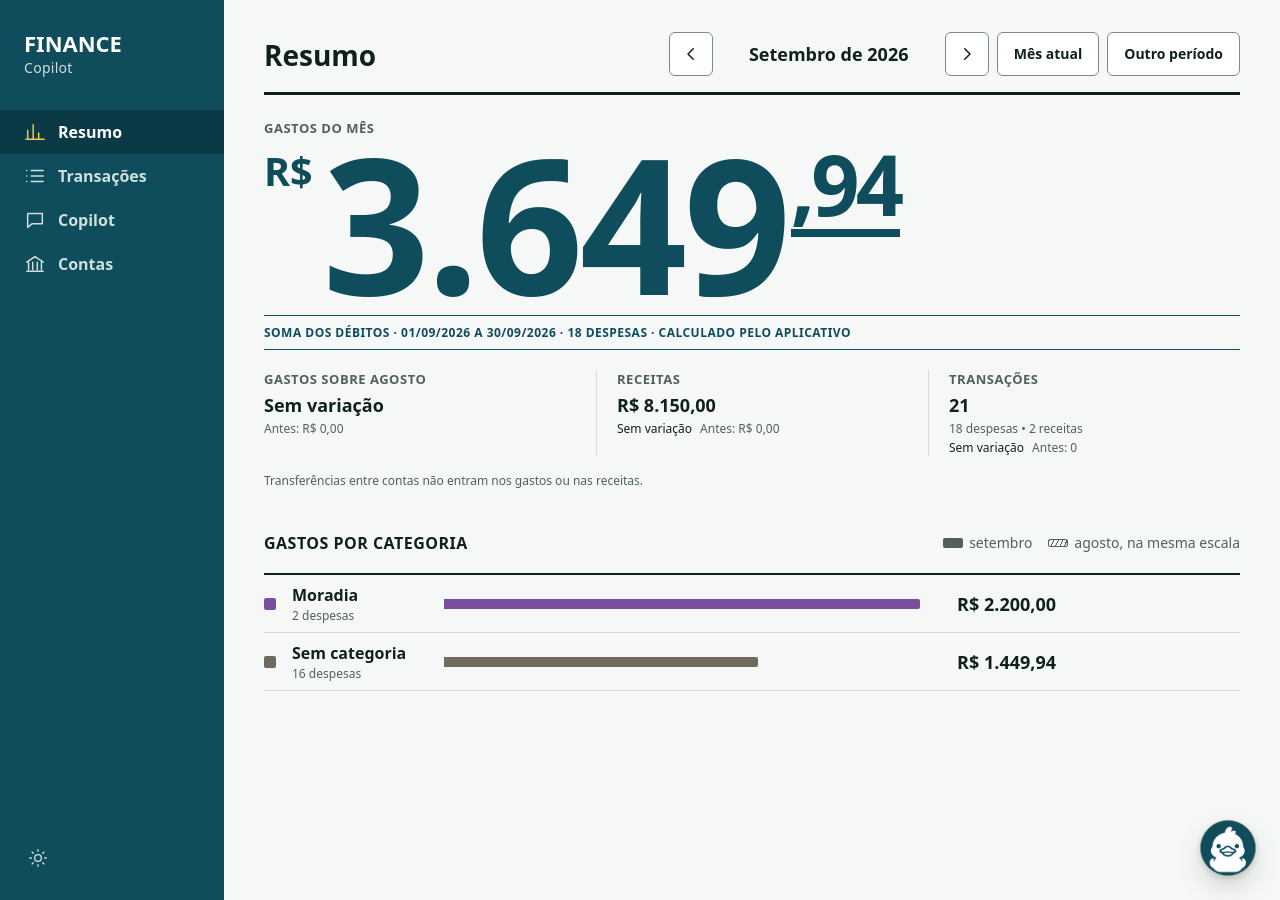
Test: DashboardPage › clears the old numbers while the new period is loading
Click the button "Mês atual".
click(1048, 54)  # box [997,32,1099,76]
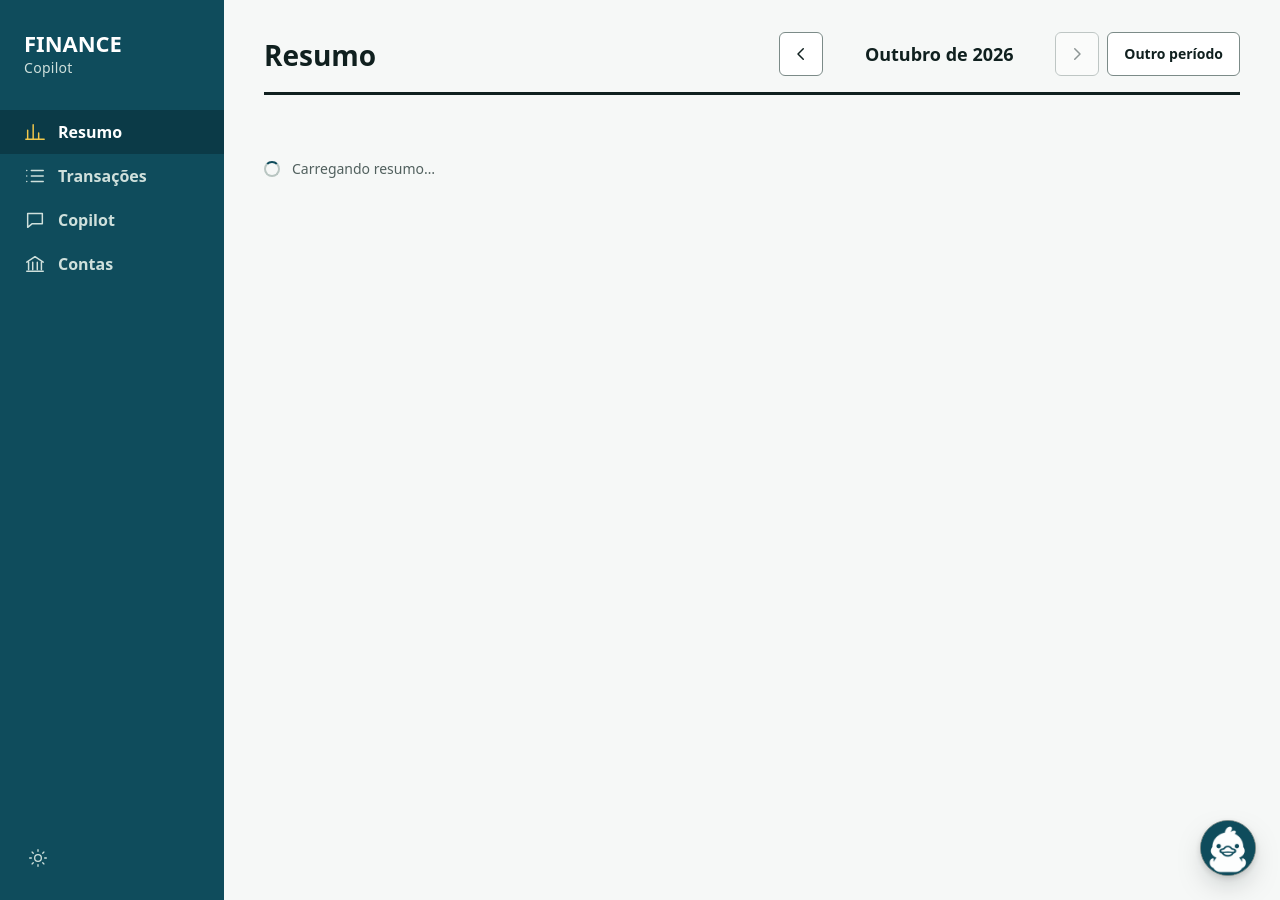
Expected: the text "R$ 3.649,94" is not shown
Expected: the message reads "Carregando resumo…", [292,159,435,178]
